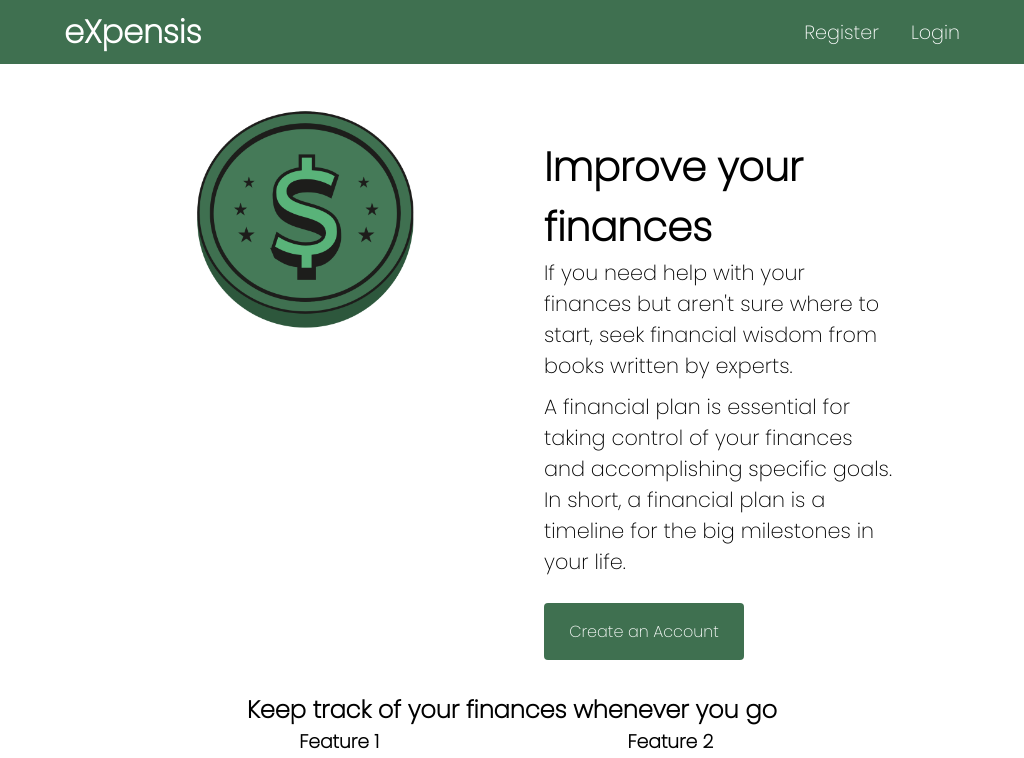
Test: Home Component › renders "Login" component
Click the link "Login" at (935, 32), box [911,18,960,46]
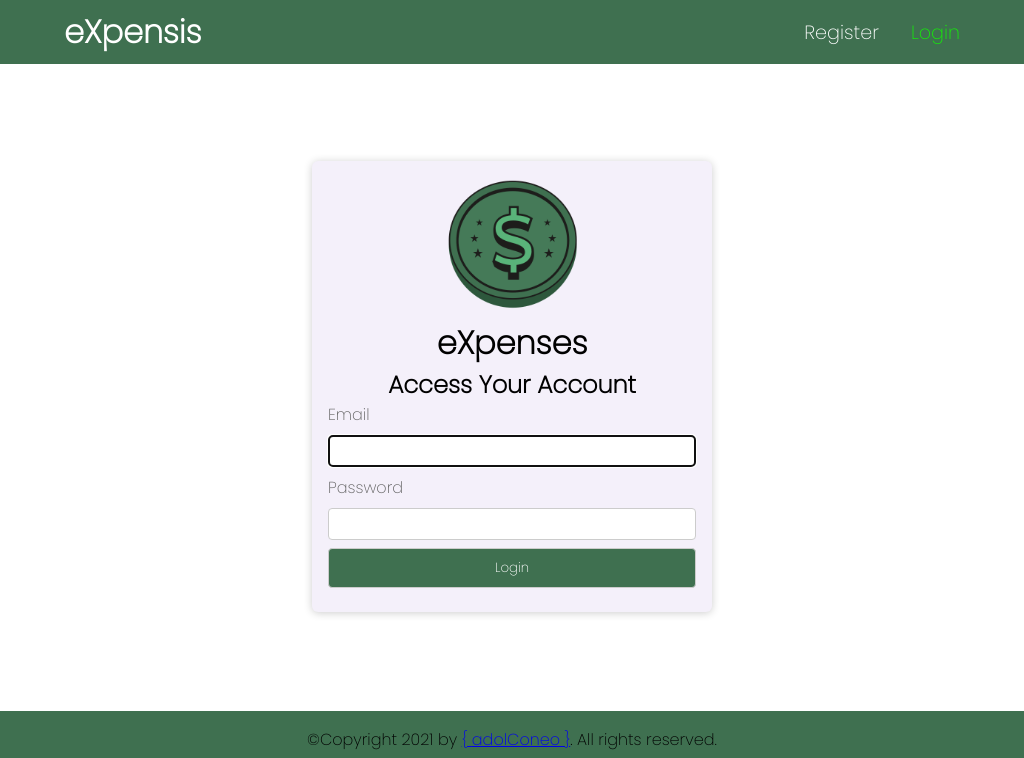
Expected: the heading "Access Your Account" is shown, [388,368,636,401]
